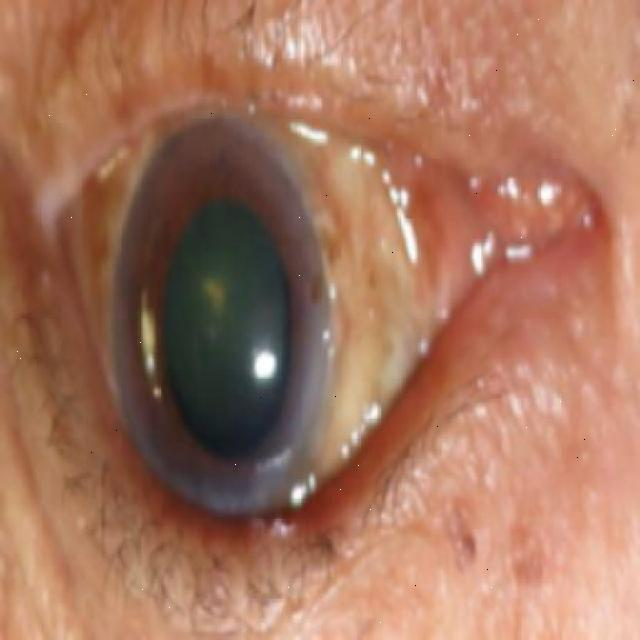Cataract: (104, 105, 331, 509)
